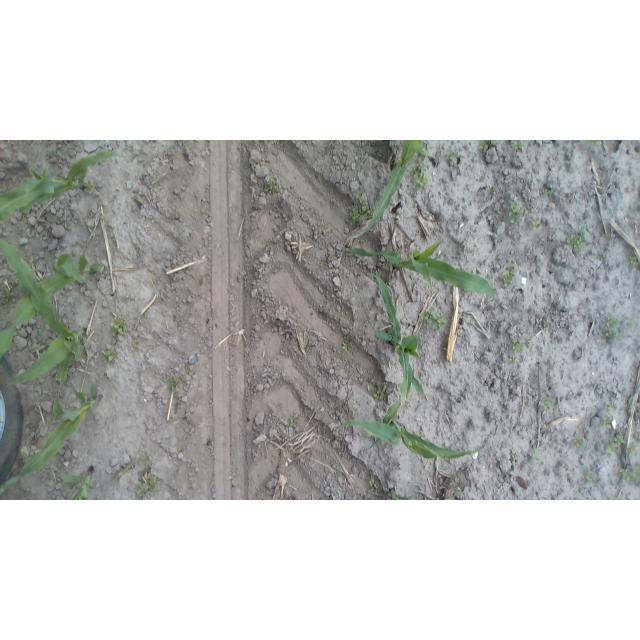Maize: (1, 375, 107, 497), (2, 242, 90, 388), (0, 250, 106, 358), (366, 269, 427, 454), (341, 237, 498, 302), (0, 150, 126, 222), (344, 404, 489, 460), (354, 140, 431, 241), (61, 466, 100, 500), (385, 485, 470, 500)
Weeds: (349, 197, 372, 227), (564, 224, 588, 250), (420, 309, 447, 332), (601, 314, 623, 342), (134, 476, 162, 498), (110, 317, 131, 340), (615, 462, 639, 482), (507, 201, 526, 226), (410, 164, 429, 189), (496, 267, 516, 288), (605, 433, 623, 455), (101, 347, 118, 365), (537, 395, 555, 412), (600, 415, 616, 430), (479, 140, 502, 150), (168, 377, 183, 392), (374, 388, 387, 405), (1, 291, 16, 305), (263, 180, 277, 194), (571, 436, 586, 449), (624, 441, 637, 456), (84, 180, 99, 193), (584, 473, 600, 484), (511, 339, 524, 352), (510, 140, 524, 152), (341, 338, 353, 352), (368, 476, 380, 490), (287, 415, 298, 430), (448, 487, 460, 500), (529, 218, 542, 230), (139, 456, 153, 467), (541, 186, 553, 198), (625, 318, 637, 330), (446, 149, 456, 163), (181, 374, 191, 387), (628, 255, 638, 268), (587, 140, 601, 149), (605, 402, 616, 413), (131, 338, 141, 350), (529, 455, 539, 466), (597, 251, 608, 261), (492, 185, 501, 196), (508, 355, 517, 365), (610, 493, 622, 500), (362, 432, 369, 442), (459, 240, 466, 249), (405, 403, 414, 410)
